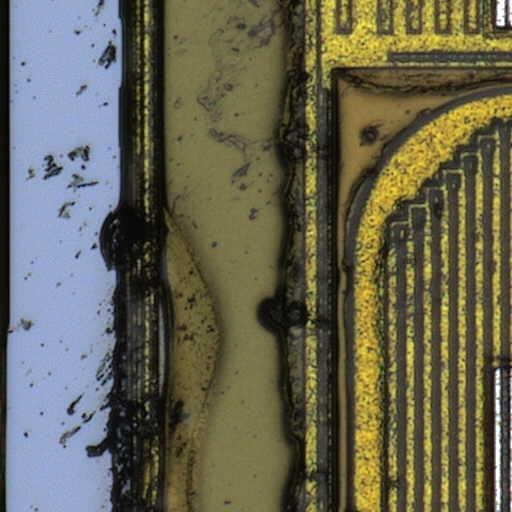PO CONTAMINATION: (6, 1, 512, 512)
